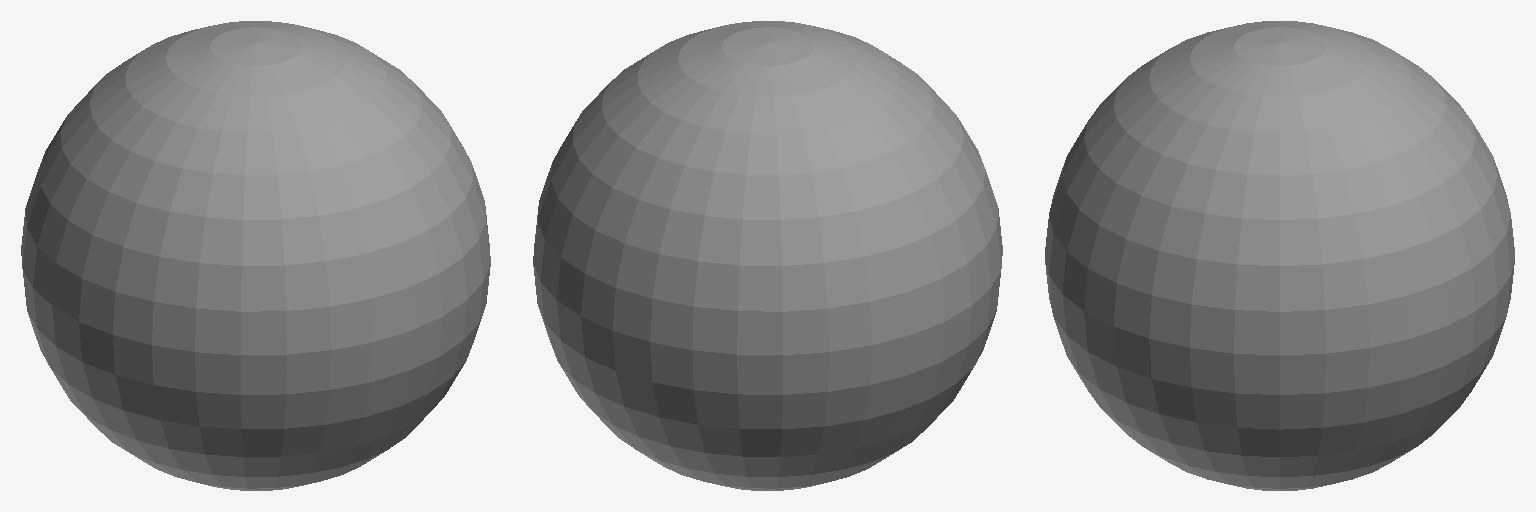
The model's file is bulb.obj.
The picture shows the model from 3 angles: view 1: azimuth 30°, elevation 25°; view 2: azimuth 150°, elevation 25°; view 3: azimuth 270°, elevation 25°; orthographic projection.
Visible parts, largest first — view 1: Sphere; view 2: Sphere; view 3: Sphere.
Boxes of the visible parts, <box> form: Sphere: <box>21,21,490,490</box>; Sphere: <box>533,21,1002,490</box>; Sphere: <box>1045,21,1514,490</box>.
Bounding box in the file's own units: 0.5 × 0.5 × 0.5.